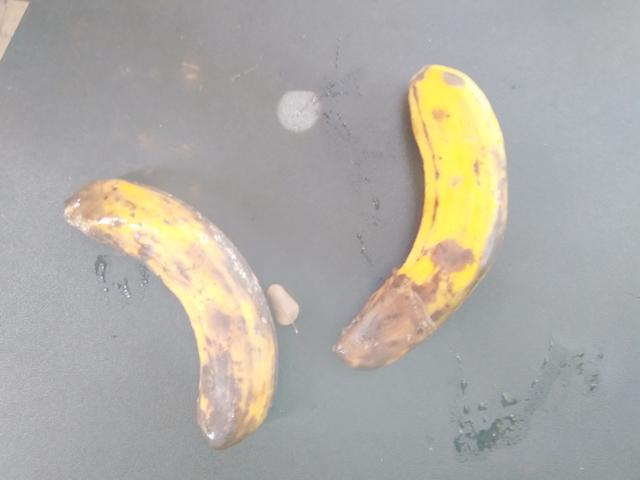rotten: (48, 168, 284, 476), (321, 56, 517, 378)
